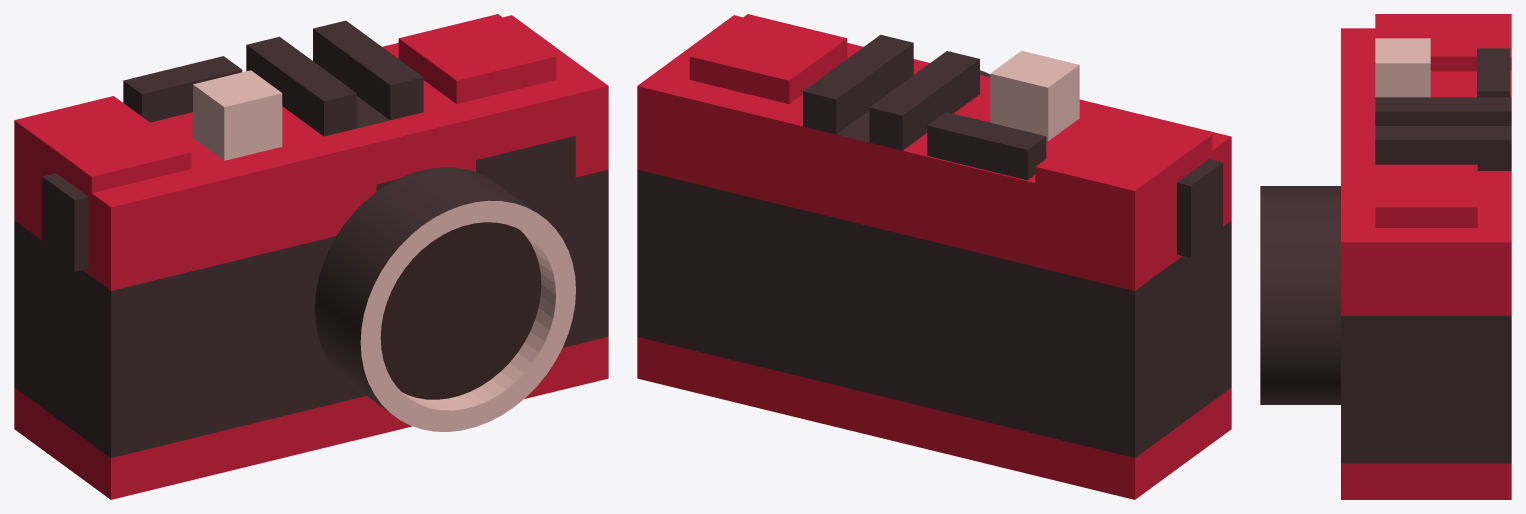
Rendered from Camera.glb.
The picture shows the model from 3 angles, left to right: view 1: azimuth 30°, elevation 25°; view 2: azimuth 150°, elevation 25°; view 3: azimuth 270°, elevation 25°; orthographic projection. The views are drawn at different scales.
Visible parts, largest first — view 1: Box001, Cylinder001; view 2: Box001; view 3: Box001, Cylinder001.
Part boxes in pixels (x1,y1,x2,y2): Box001: (14,14,608,499); Cylinder001: (314,167,575,431); Box001: (637,14,1231,499); Box001: (1341,14,1511,499); Cylinder001: (1260,186,1340,404).
Size of the model in its own units: 4.58 by 2.96 by 2.21.
